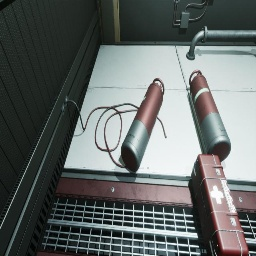FirstAidBox ,: (191, 154, 249, 256)
NitrogenTank ,: (121, 78, 164, 172), (189, 70, 231, 162)
